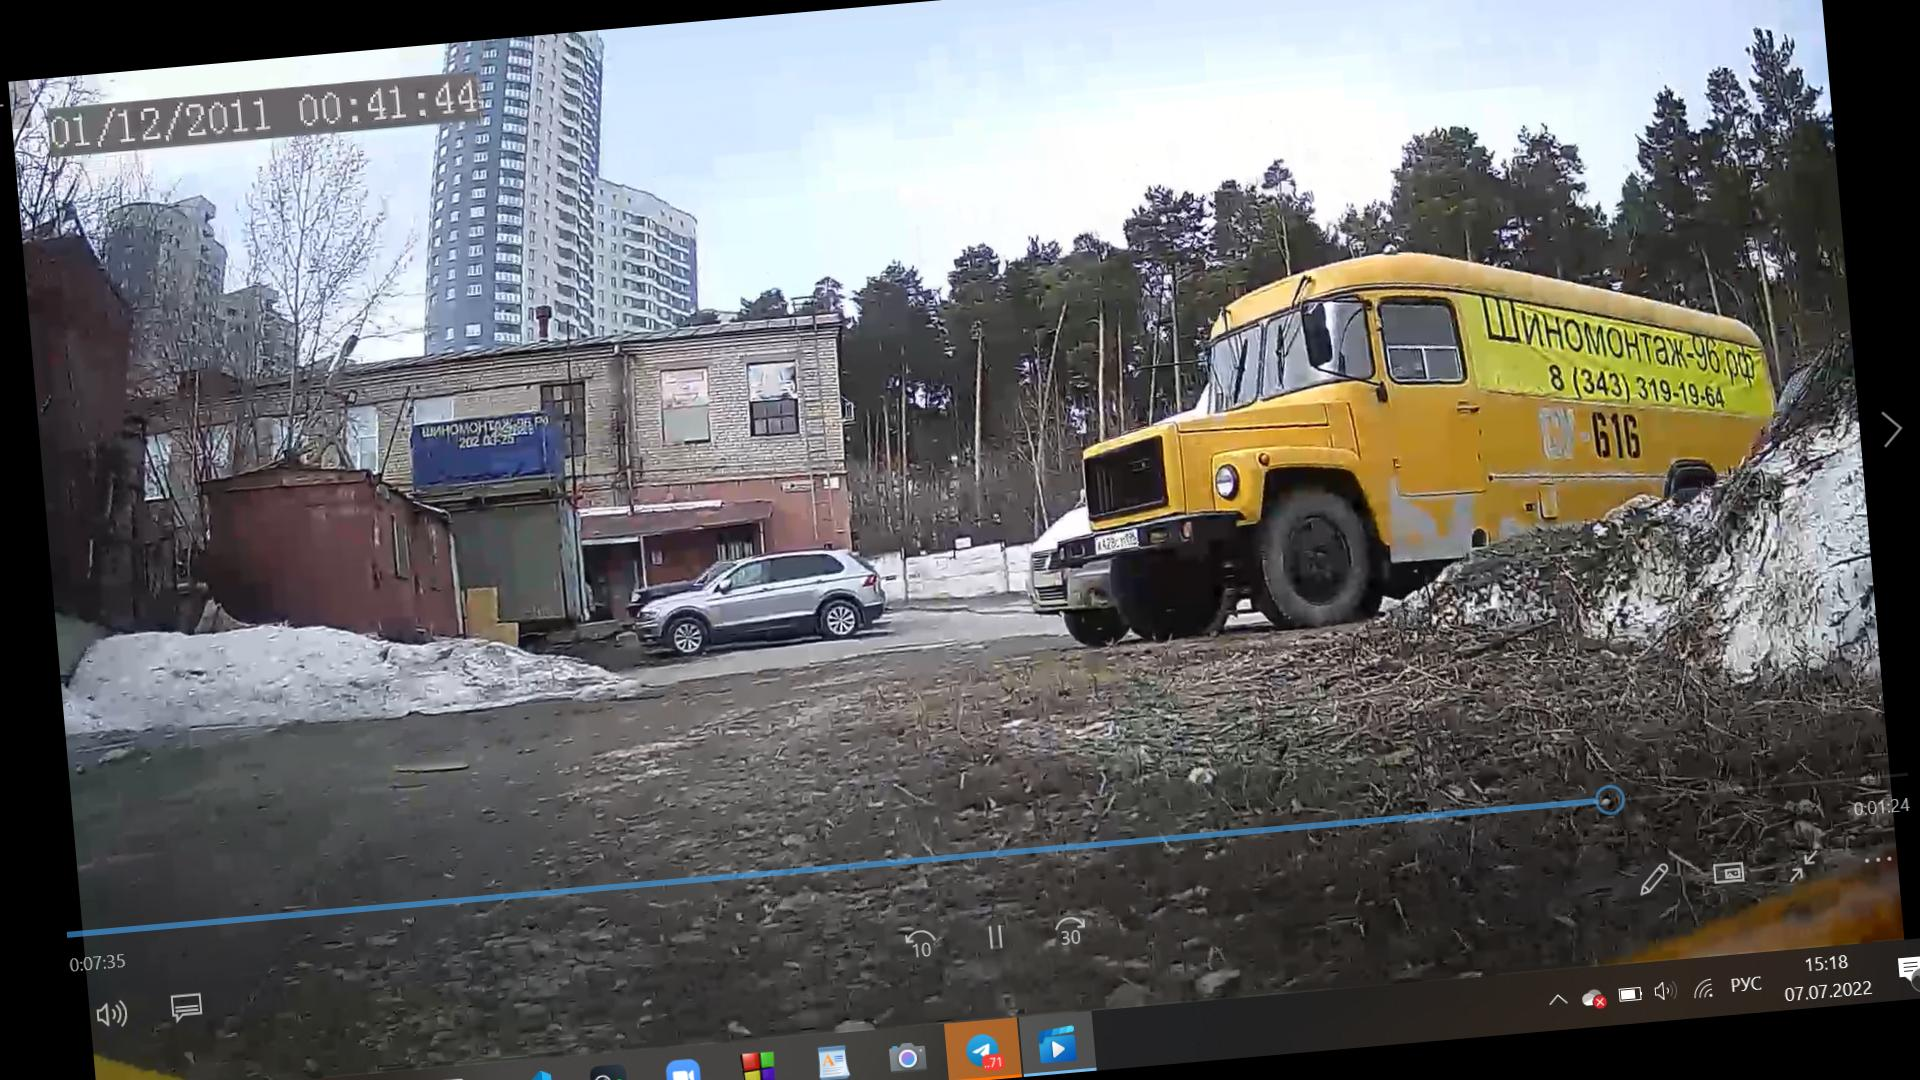plate: (1095, 529, 1142, 554)
